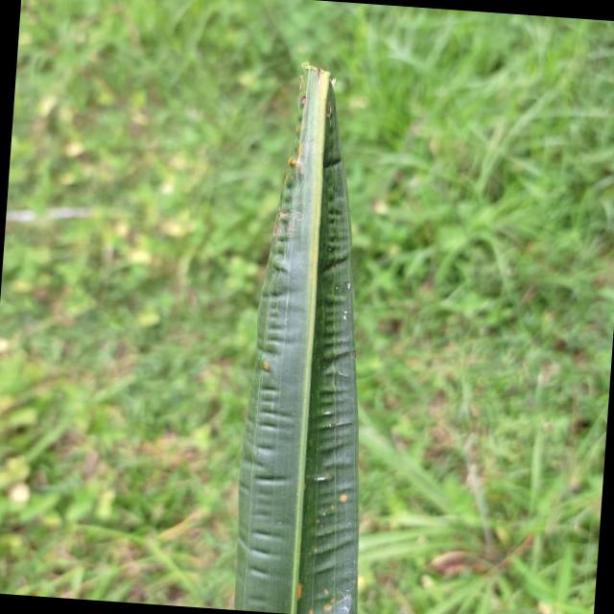Boron: (238, 35, 360, 614)
